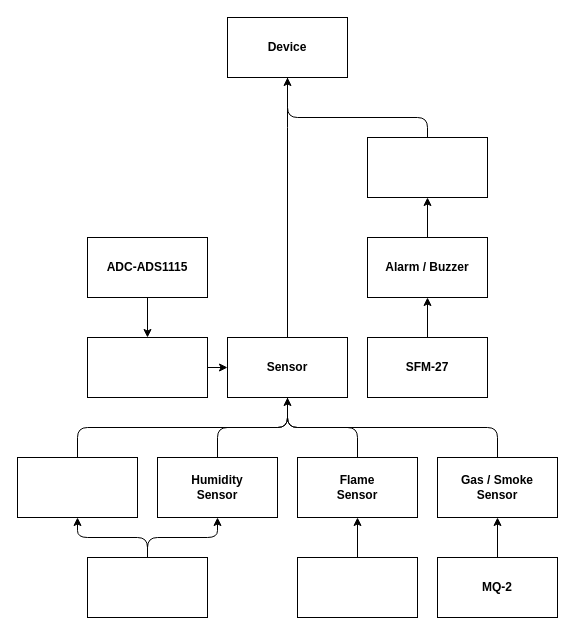
The diagram is 575 pixels wide and 635 high, and some of its shapes have lost their labels. The shapes that lost their labels are listed below. From the top down, each one's centre as x and y in pixels, then its label:
the point at 427,167: Actuator
the point at 147,367: Analog2Digital Converter
the point at 77,487: Temperature Sensor
the point at 147,587: DHT-11
the point at 357,587: KY-026
